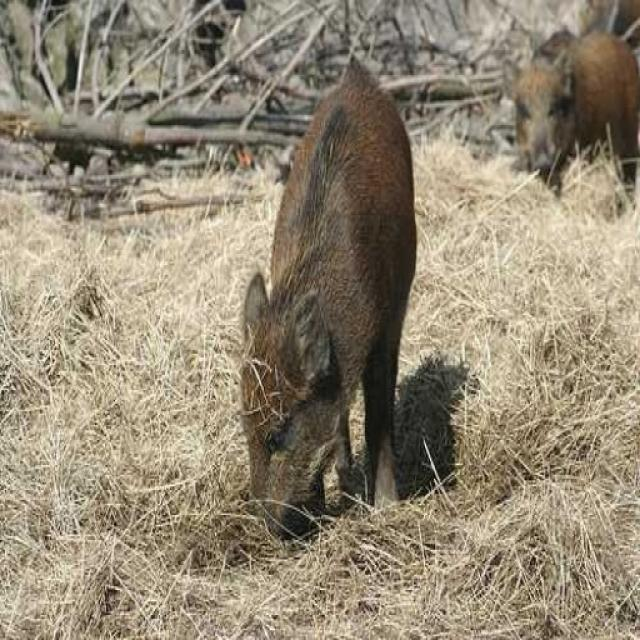pig: (233, 38, 459, 528), (466, 23, 640, 198)
